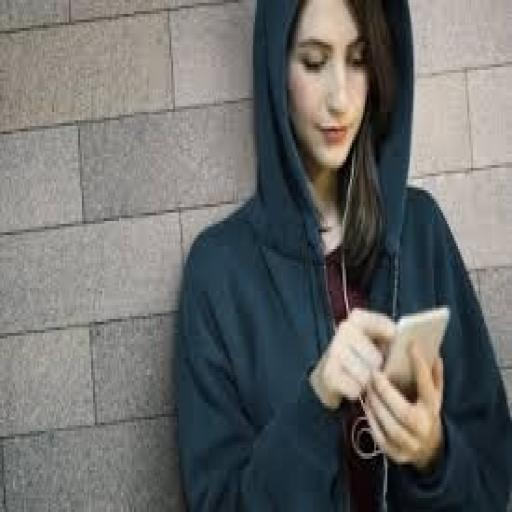listening_to_music: (173, 0, 510, 509)
